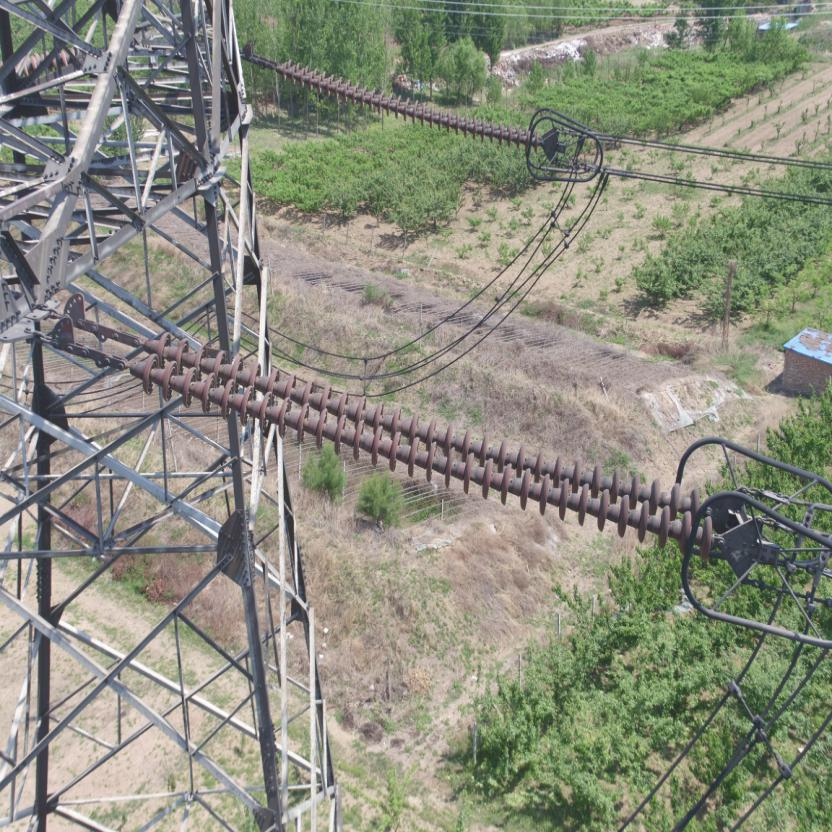insulator: (111, 324, 734, 564), (266, 57, 547, 151)
